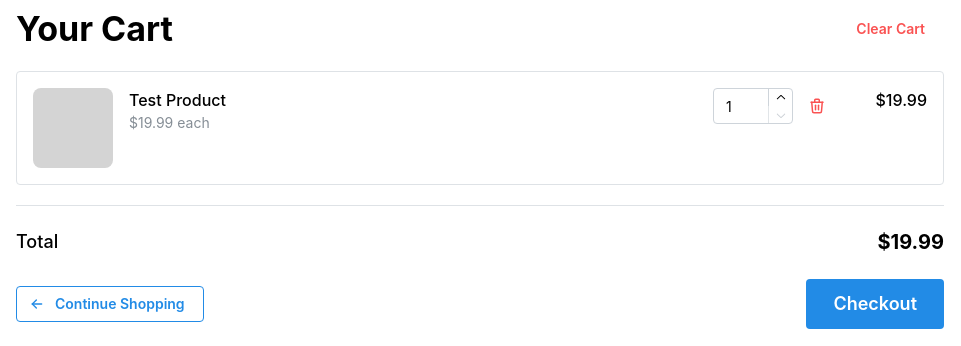
Scenario: Cart Page › removes item when trash button is clicked
expect the text "Test Product" is shown: met, box [129,90,226,110]
Step 1. Click the button named "remove item" → (817, 106), box [803,92,831,120]
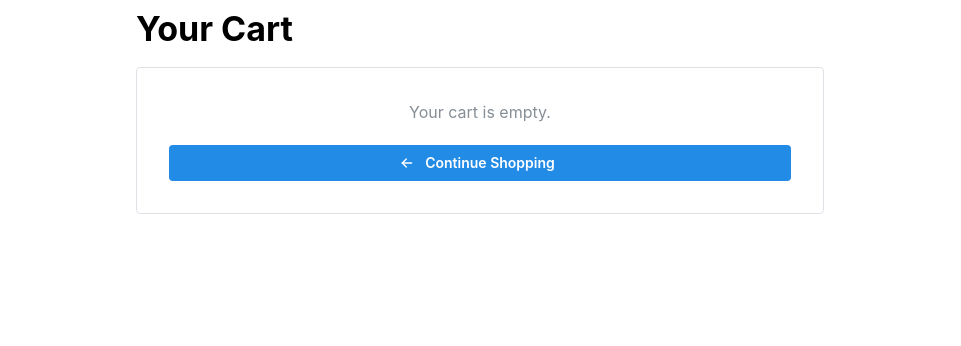
expect the text "Your cart is empty." is shown: met, box [409,102,551,122]
